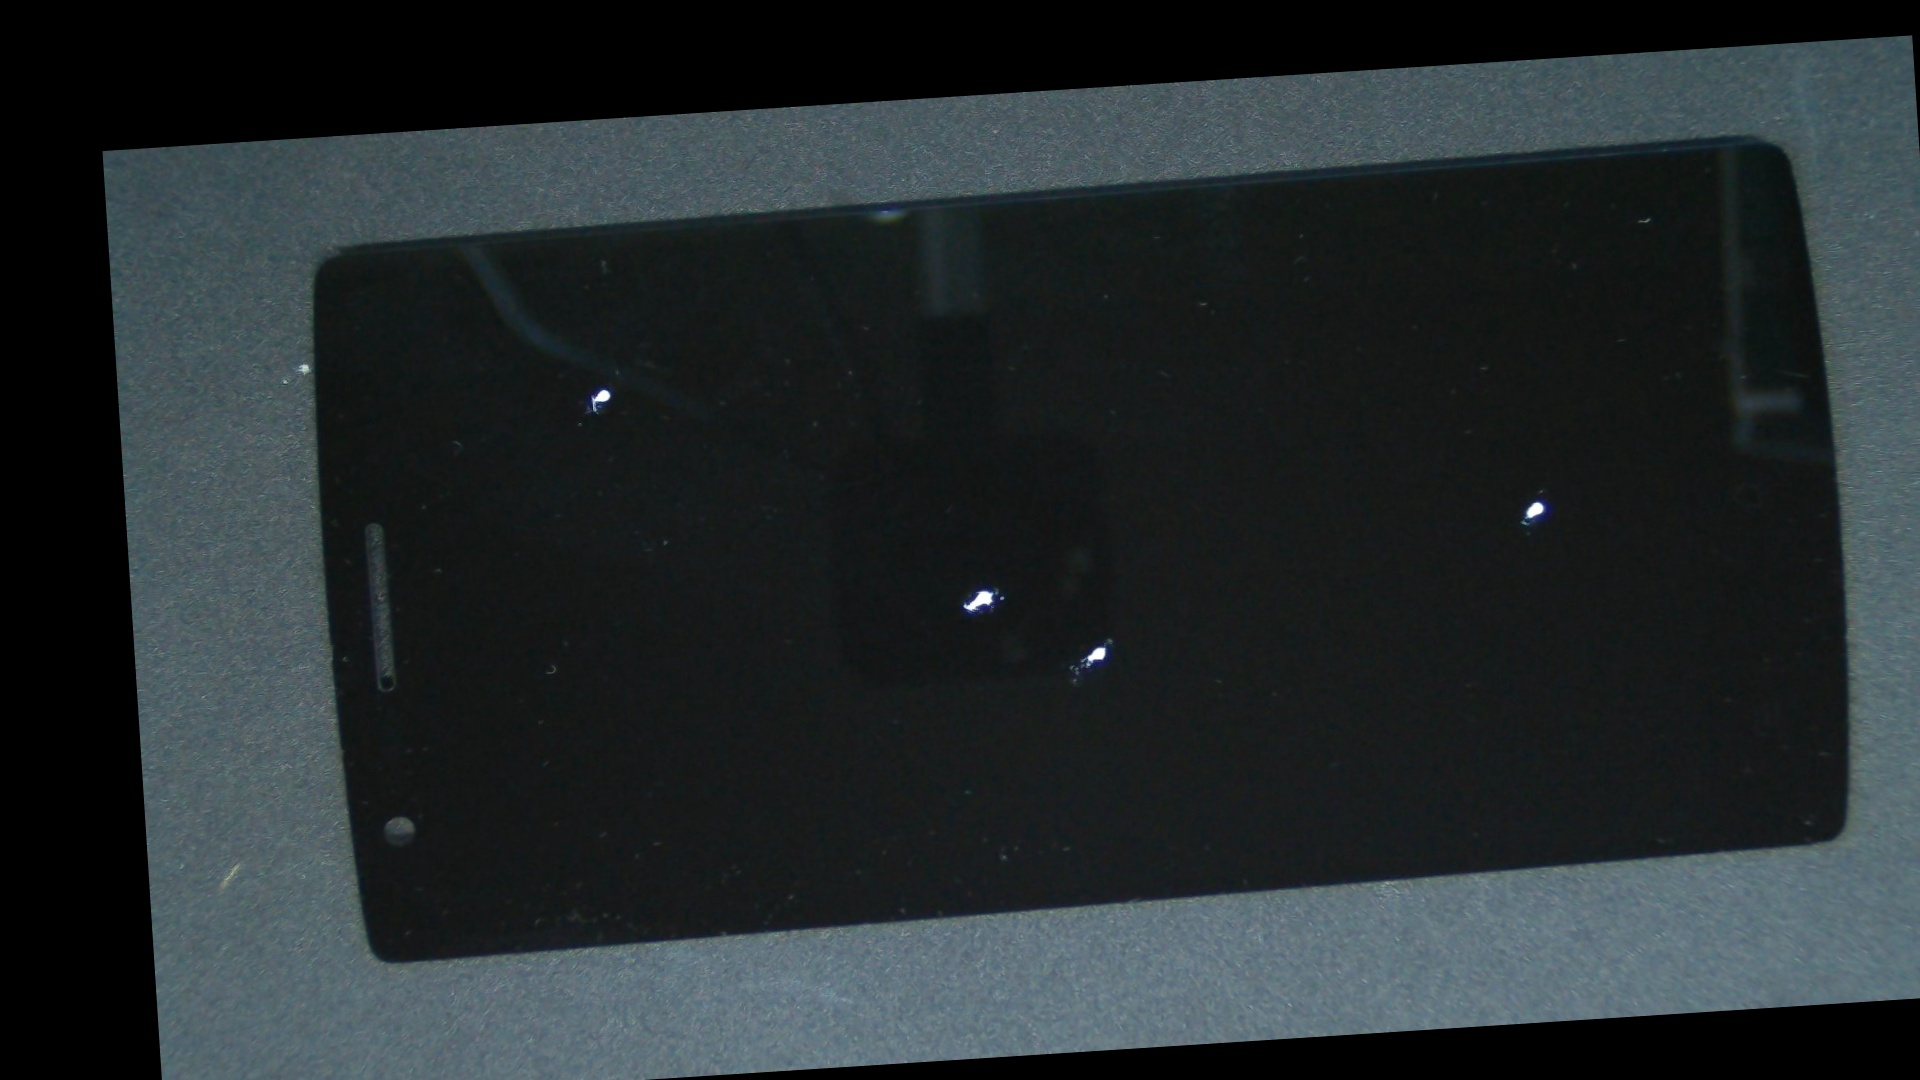oil: (605, 332, 1607, 943), (820, 255, 1920, 766), (549, 314, 1439, 860), (352, 239, 851, 538)
